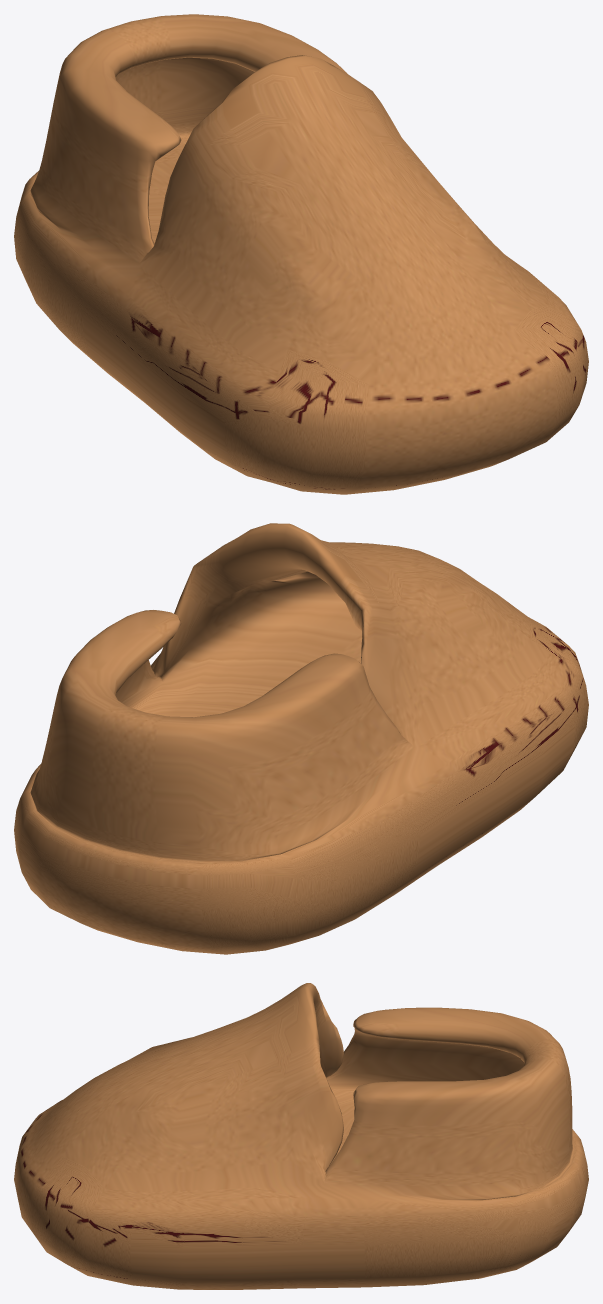
The model's file is oneMoc.gltf.
3 views of the same model, one above another, from view 1: azimuth 30°, elevation 25°; view 2: azimuth 150°, elevation 25°; view 3: azimuth 270°, elevation 25° (orthographic). The views are drawn at different scales.
Parts seen in each view (by area): view 1: pCube1; view 2: pCube1; view 3: pCube1.
Part boxes in pixels (box(x1,y1,x2,y2)): pCube1: box(14, 14, 588, 494); pCube1: box(14, 523, 588, 954); pCube1: box(14, 983, 588, 1289).
Bounding box in the file's own units: 0.6695 × 0.5838 × 1.17.
Materials: 1 (1 with a texture image).
